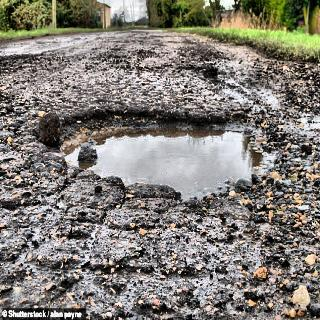pothole: (34, 110, 282, 222)
